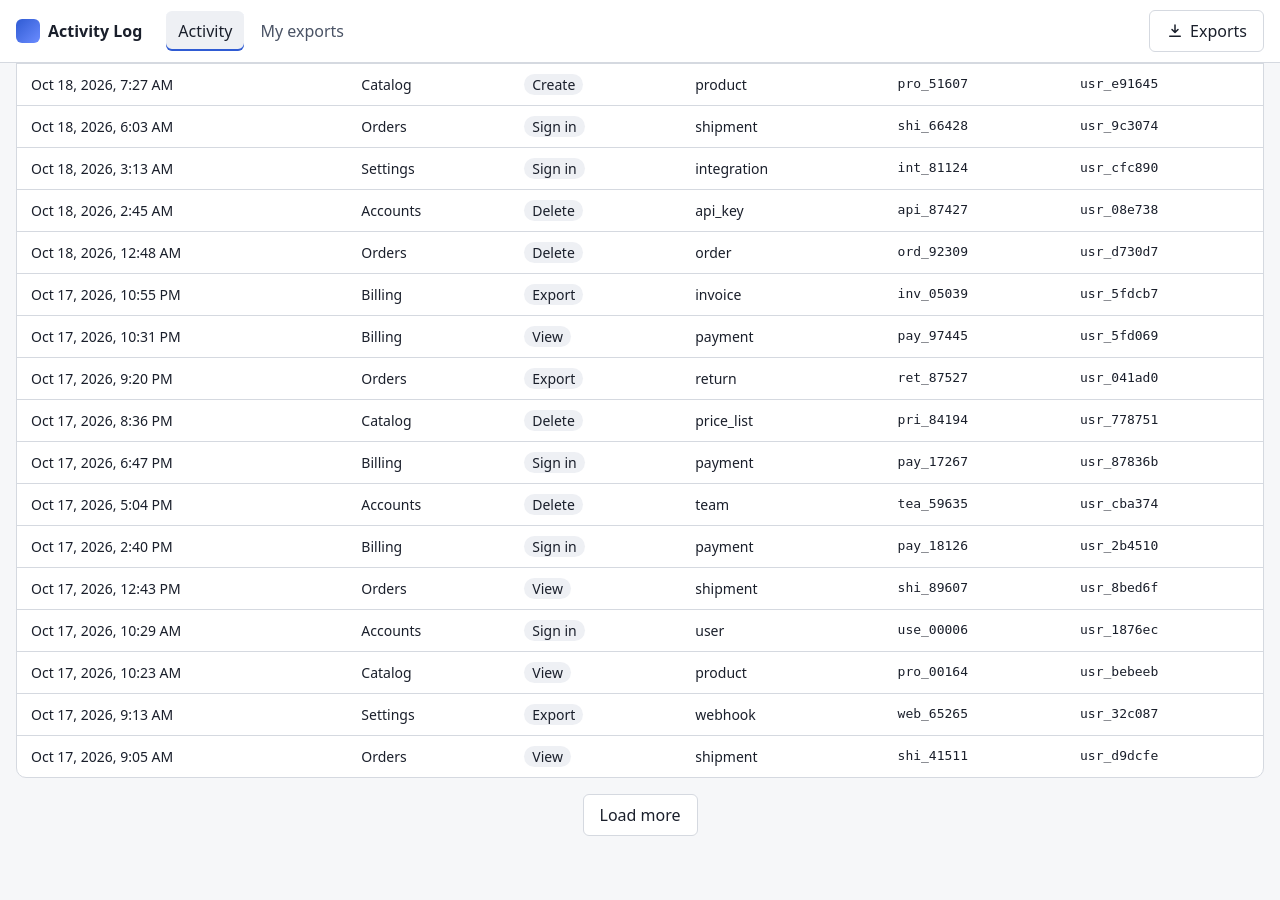
Test: Activity page › loads the first keyset page and appends the next one on "Load more"
The width and height of the screenshot is (1280, 900).
(page scrolled)
Click the button "Load more".
click(640, 815)  # box [582, 794, 698, 836]
(page scrolled)
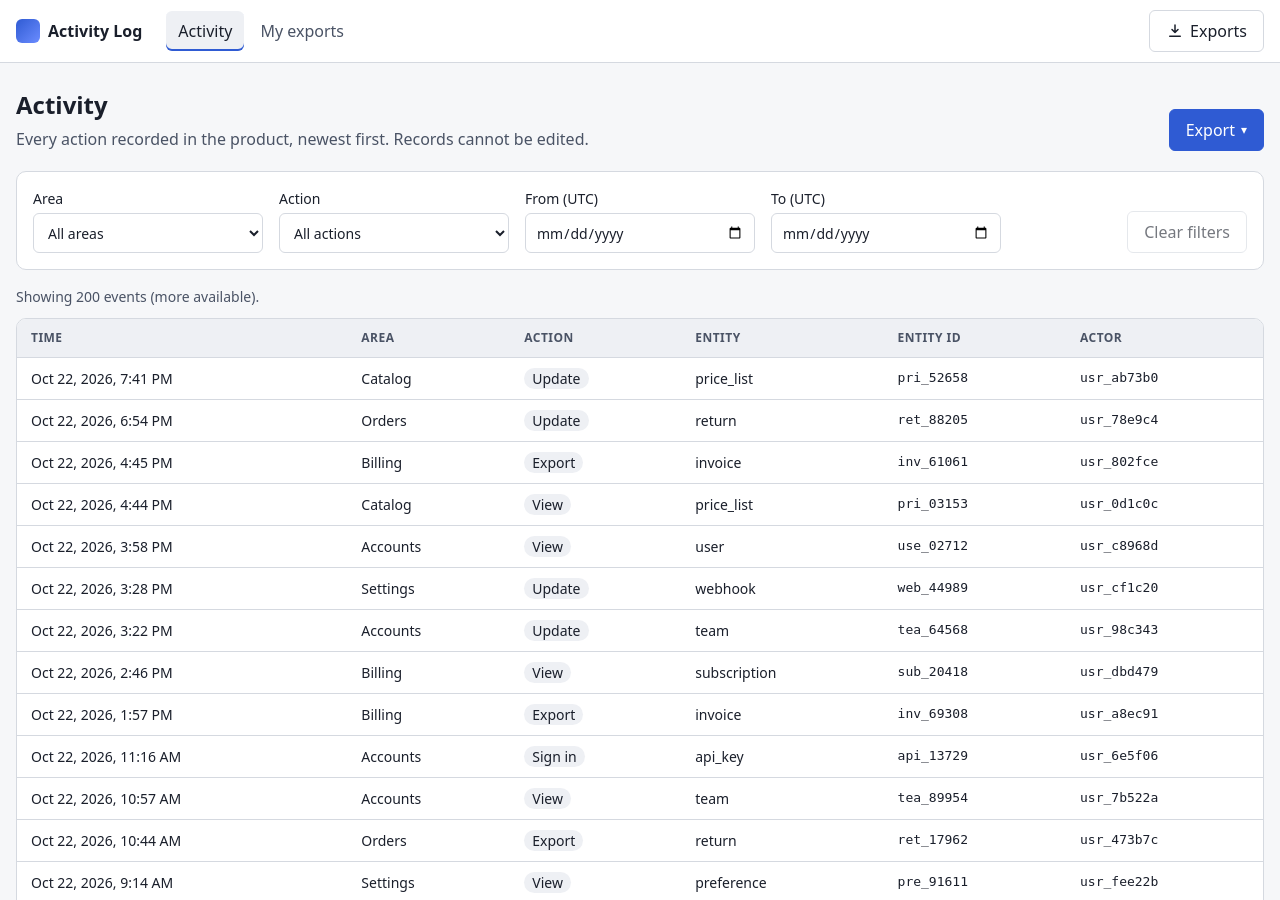
Expected: the text "Showing 200 events (more available)." is shown, [16, 287, 259, 306]
